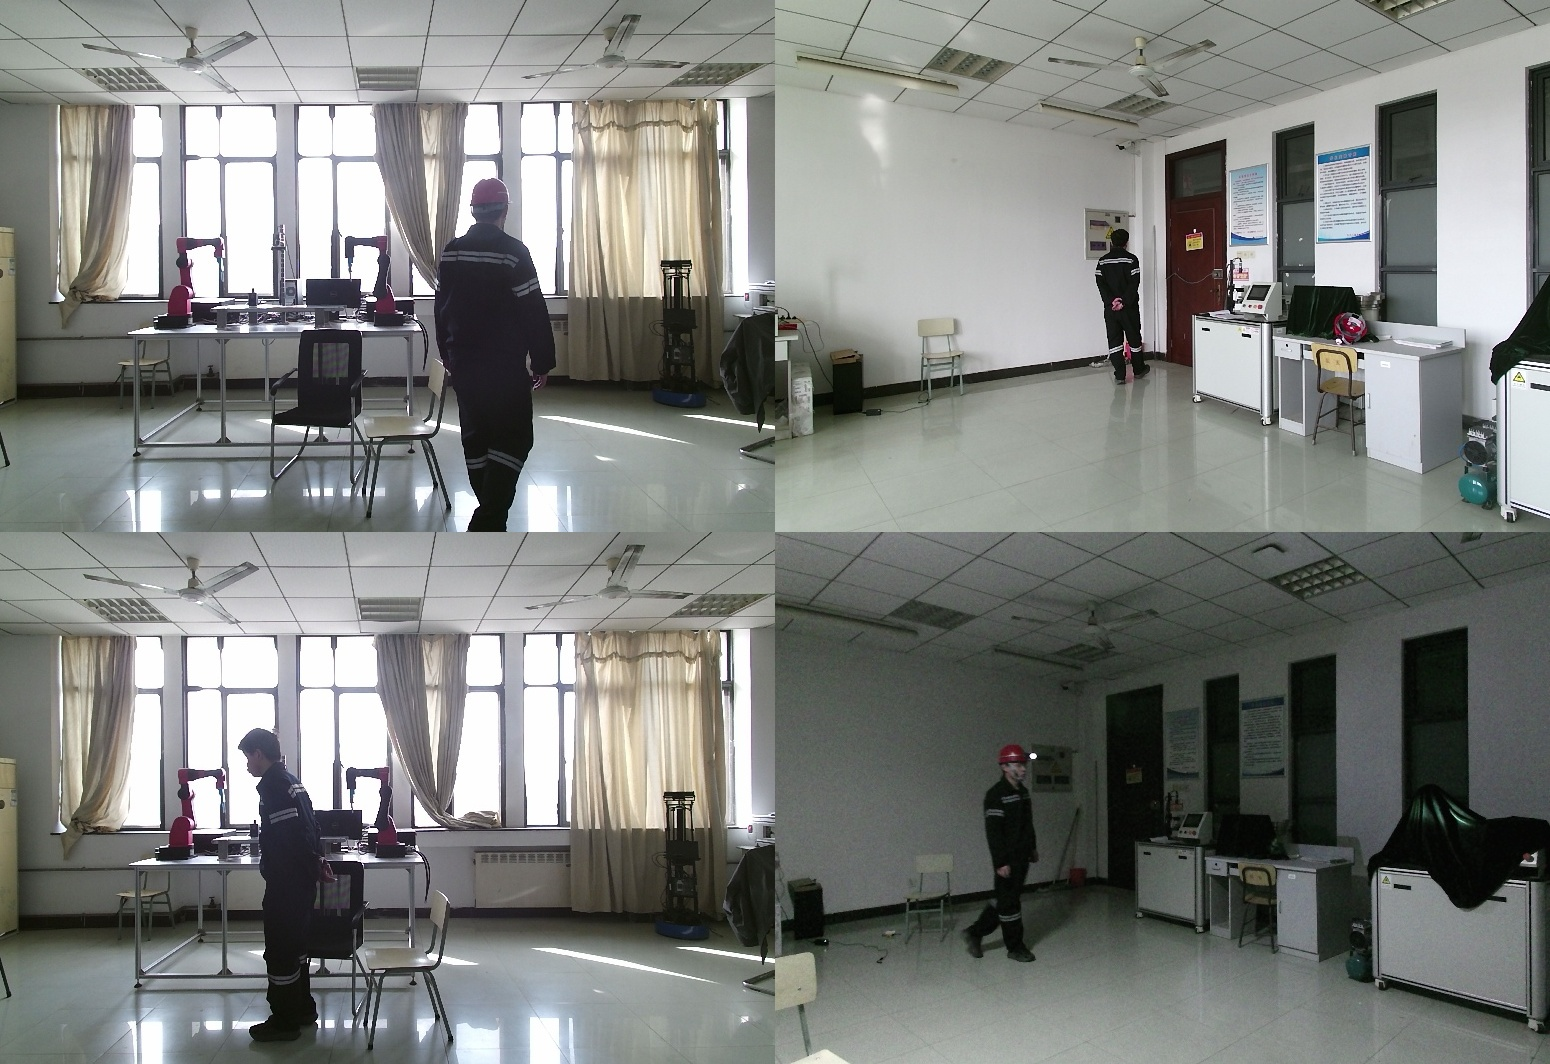person: (434, 178, 564, 532), (238, 728, 336, 1039), (957, 747, 1039, 975), (1091, 228, 1150, 384)
